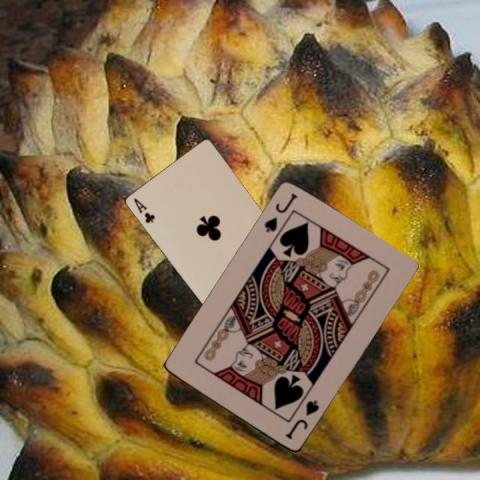Ac: (131, 195, 156, 225)
Js: (282, 398, 321, 441), (262, 190, 300, 234)
